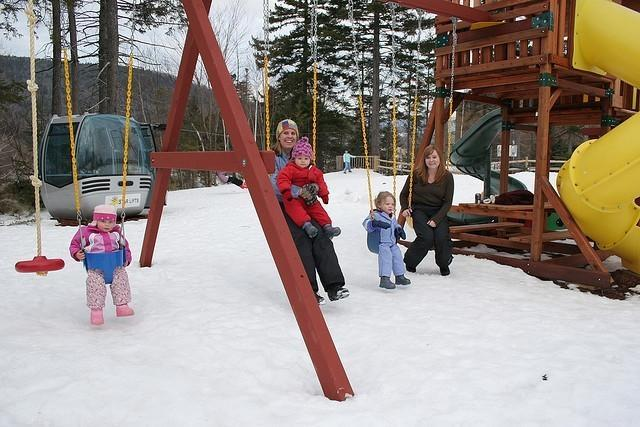bus: (35, 117, 152, 216)
